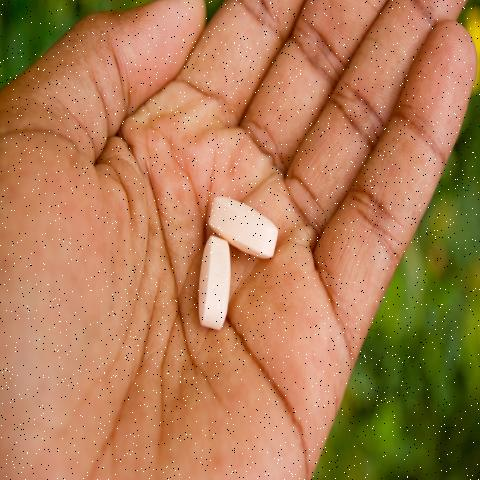hands: (208, 177, 293, 260), (190, 229, 239, 344)
